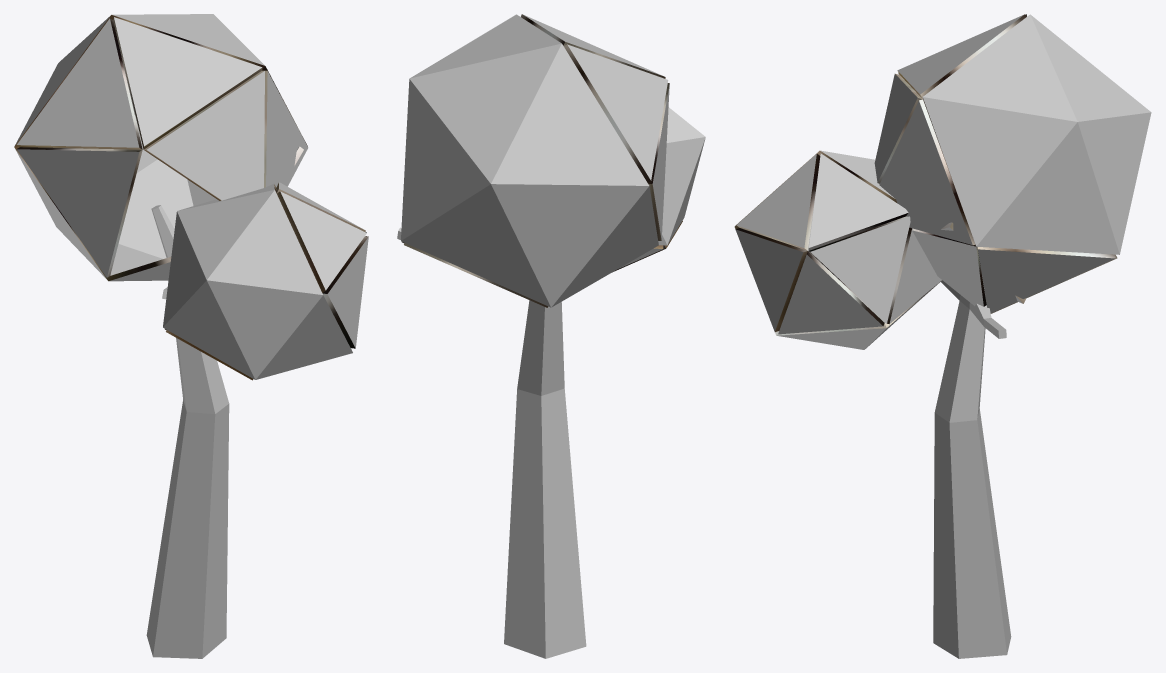
File: Tree3.fbx
3 views of the same model, side by side, from view 1: azimuth 30°, elevation 25°; view 2: azimuth 150°, elevation 25°; view 3: azimuth 270°, elevation 25° (orthographic). The views are drawn at different scales.
Visible parts, largest first — view 1: Tree3; view 2: Tree3; view 3: Tree3.
Boxes of the visible parts, left/top/right/bottom form: Tree3: left=14, top=14, right=368, bottom=658; Tree3: left=397, top=14, right=705, bottom=658; Tree3: left=734, top=14, right=1151, bottom=658.
Size of the model in its own units: 876 by 1935 by 1197.
